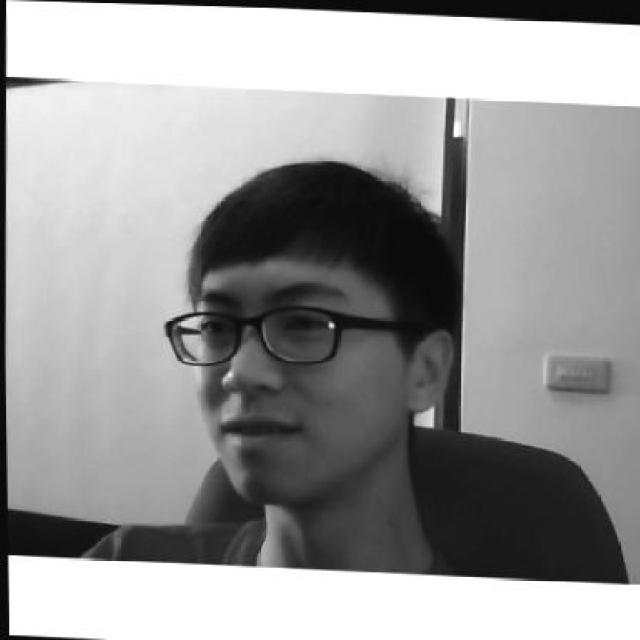attentif: (157, 152, 460, 506)
